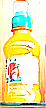orange: (4, 1, 42, 103)
